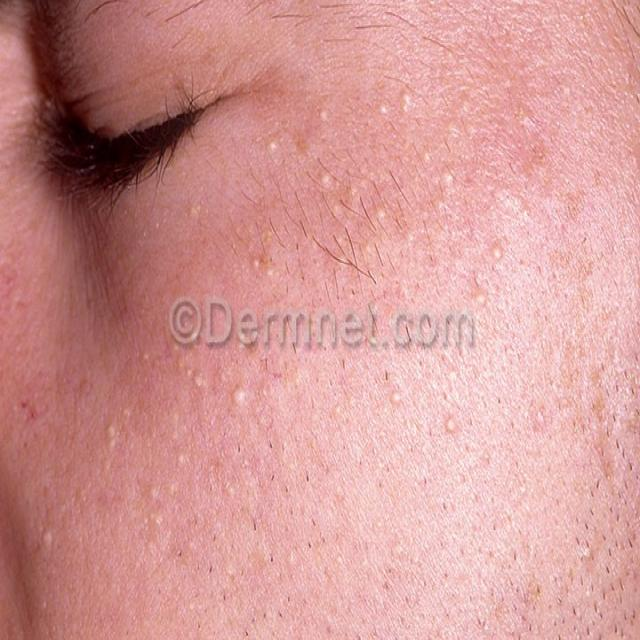acne: (13, 2, 634, 610)
